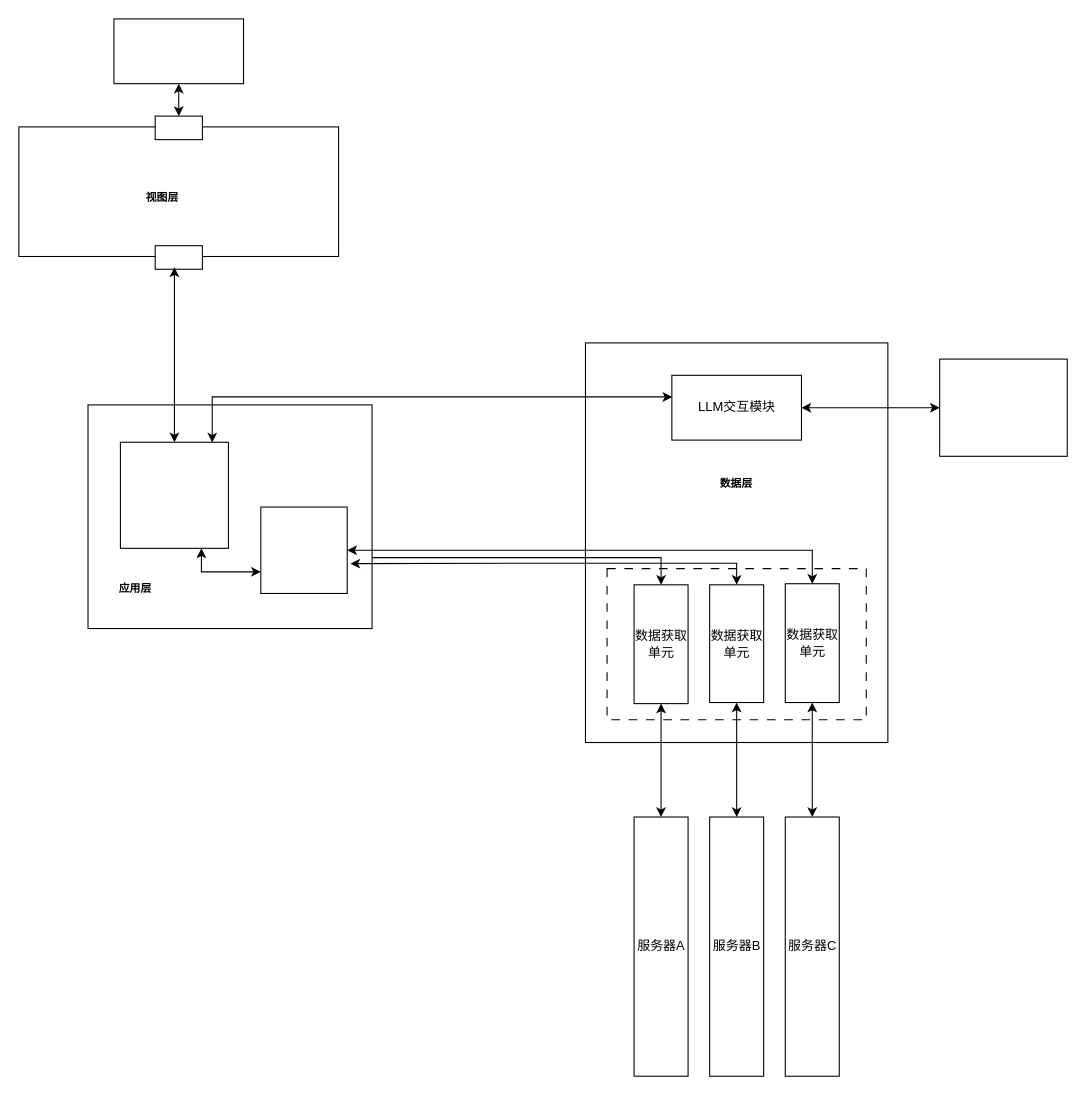
The diagram is 1086 pixels wide and 1095 high, and some of its shapes have lost their labels. Here are the shapes that lost their labels. From the top down, the centre of each, then its label:
(178,51): 用户
(1003,407): LLM
(173,494): 控制模块
(303,549): 搜索 整合 模块
